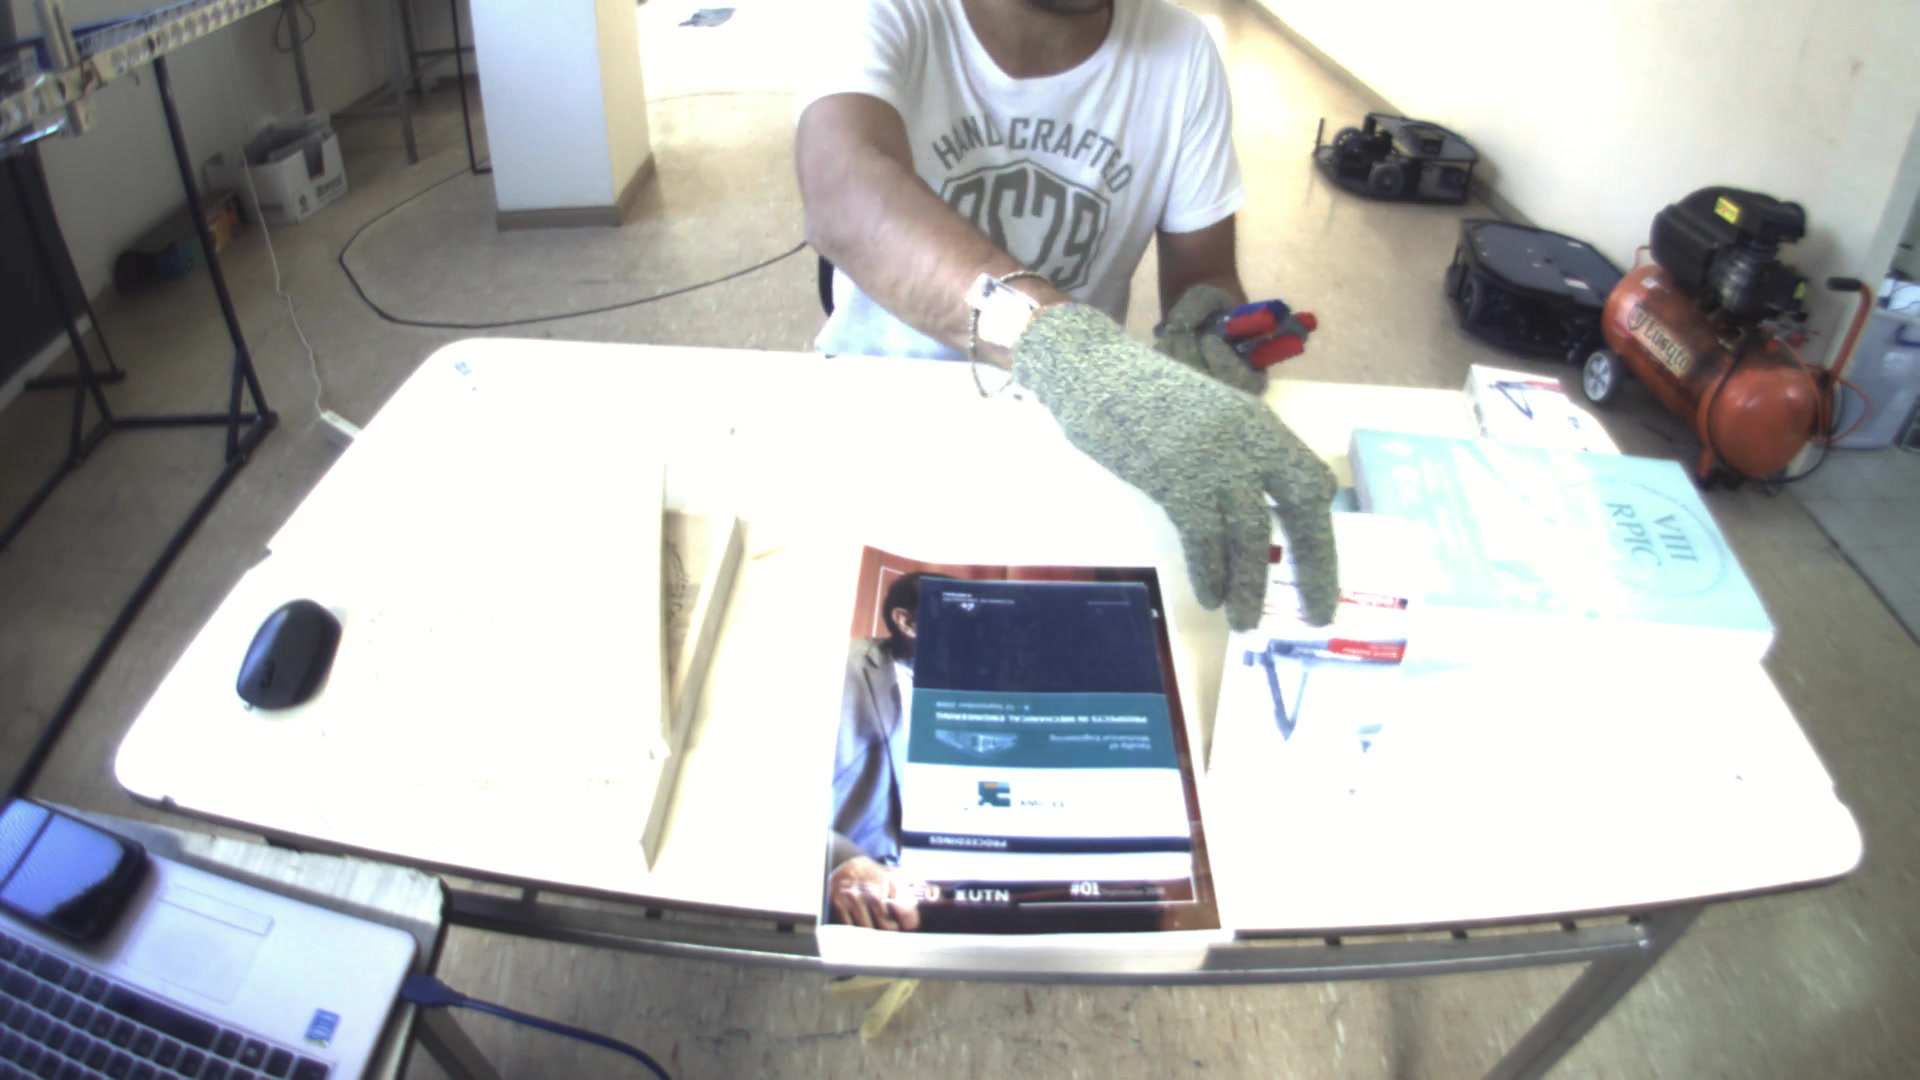hand: (1004, 277, 1346, 637), (1145, 280, 1332, 382)
